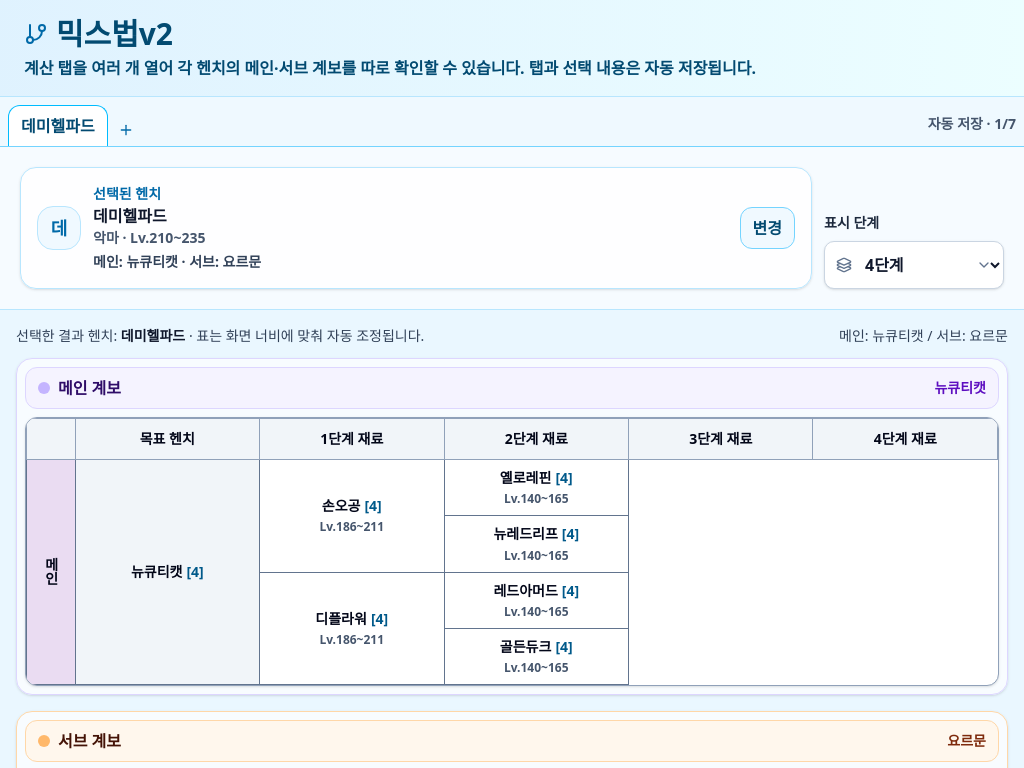
Test: MixTreeTable › opens independent tabs and keeps a different target and depth in each tab
Select "3단계" in the dropdown labelled "표시 단계" at [914, 265], box [824, 241, 1004, 289]
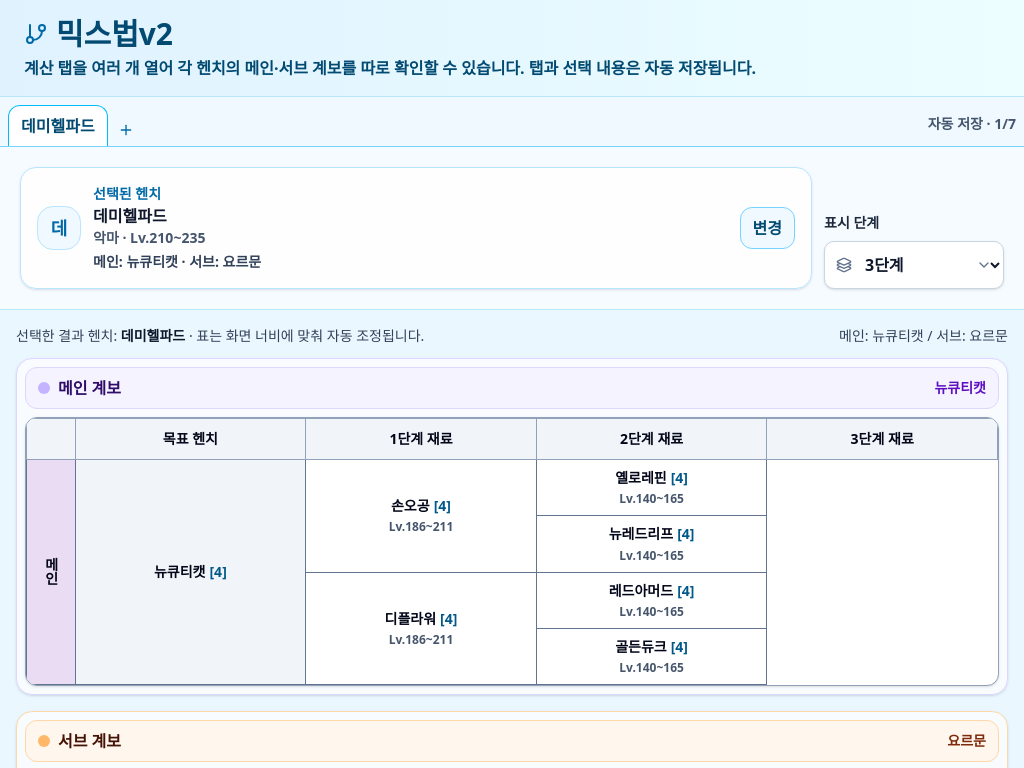
Click the button named "믹스법v2 탭 추가" at [126, 130], box [112, 116, 140, 144]
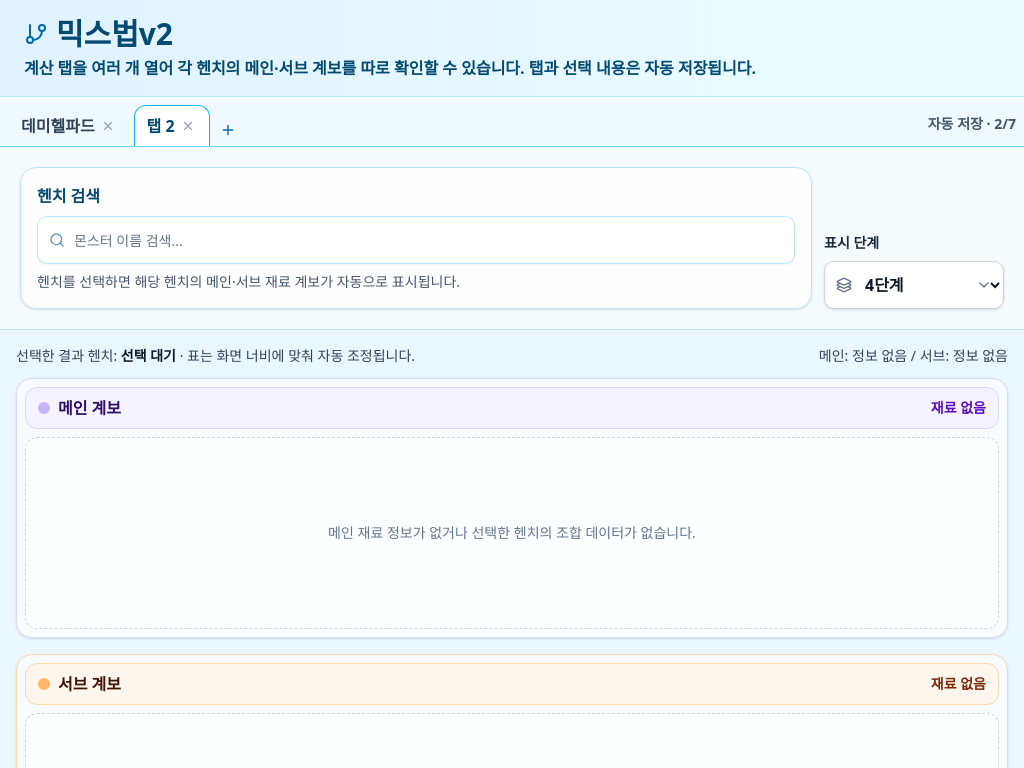
Type "테스트목표" into the field named "헨치 검색" at [416, 240], box [37, 216, 795, 264]
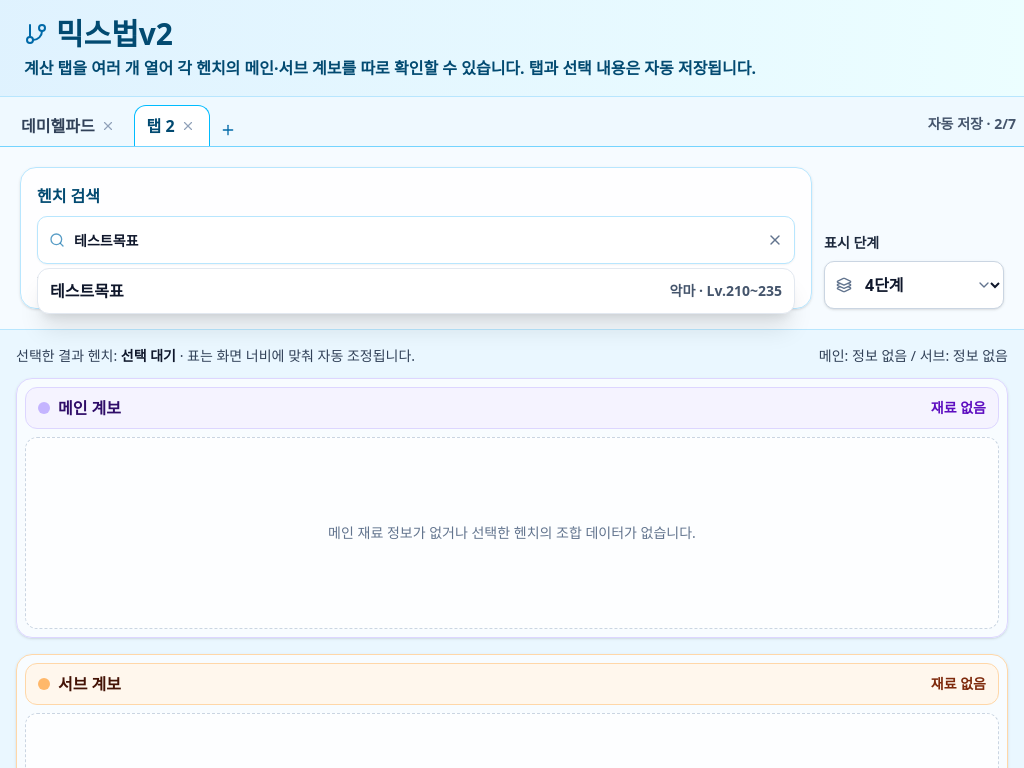
Click the button "테스트목표 악마 · Lv.210~235" at [87, 291], box [38, 269, 794, 313]
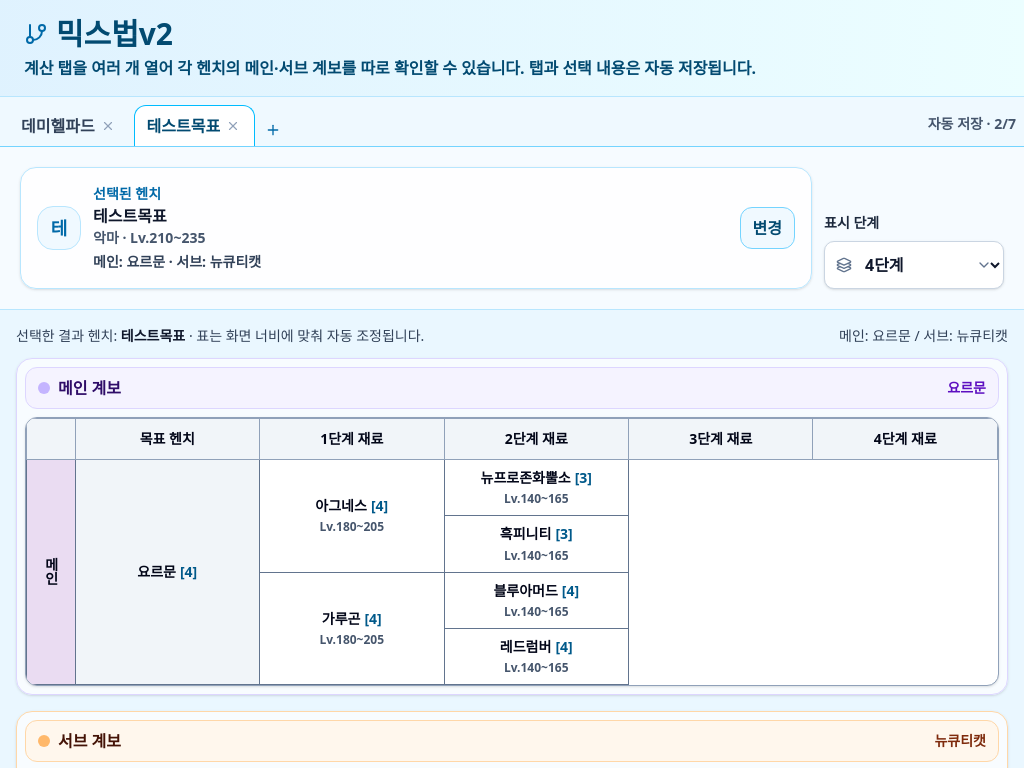
Select "2단계" in the dropdown labelled "표시 단계" at [914, 265], box [824, 241, 1004, 289]
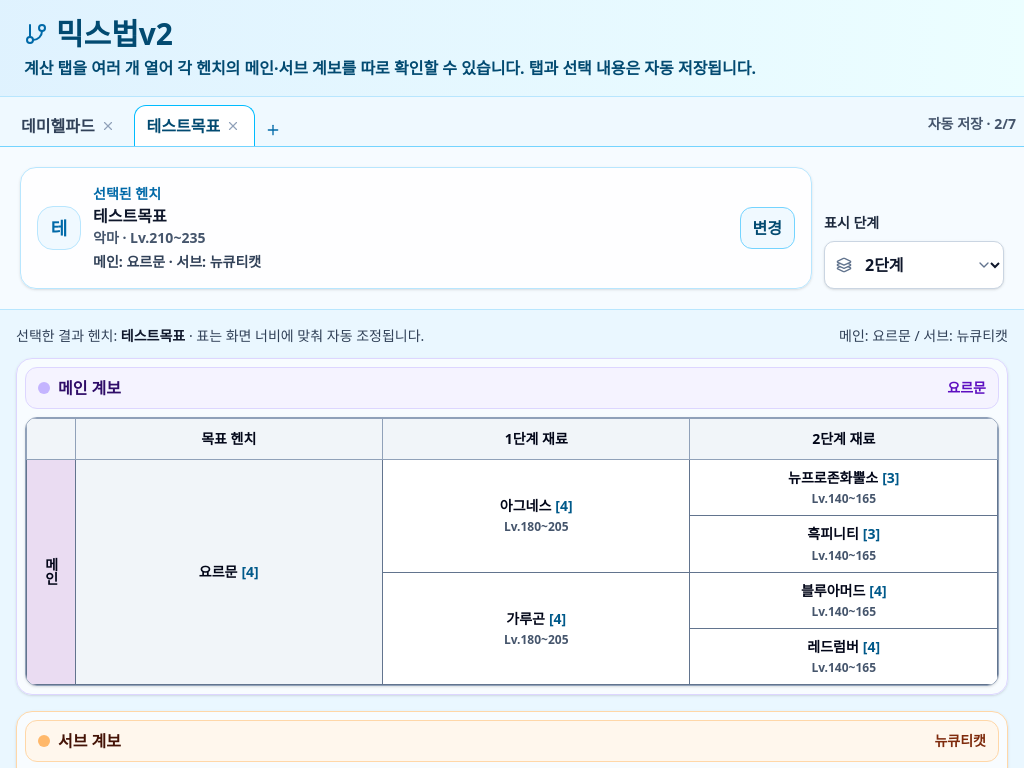
Expected: the element with test id "mix-tree2-main-table" shows "요르문", [199, 562, 237, 581]
Click the tab "데미헬파드" at [58, 126], box [21, 114, 95, 138]
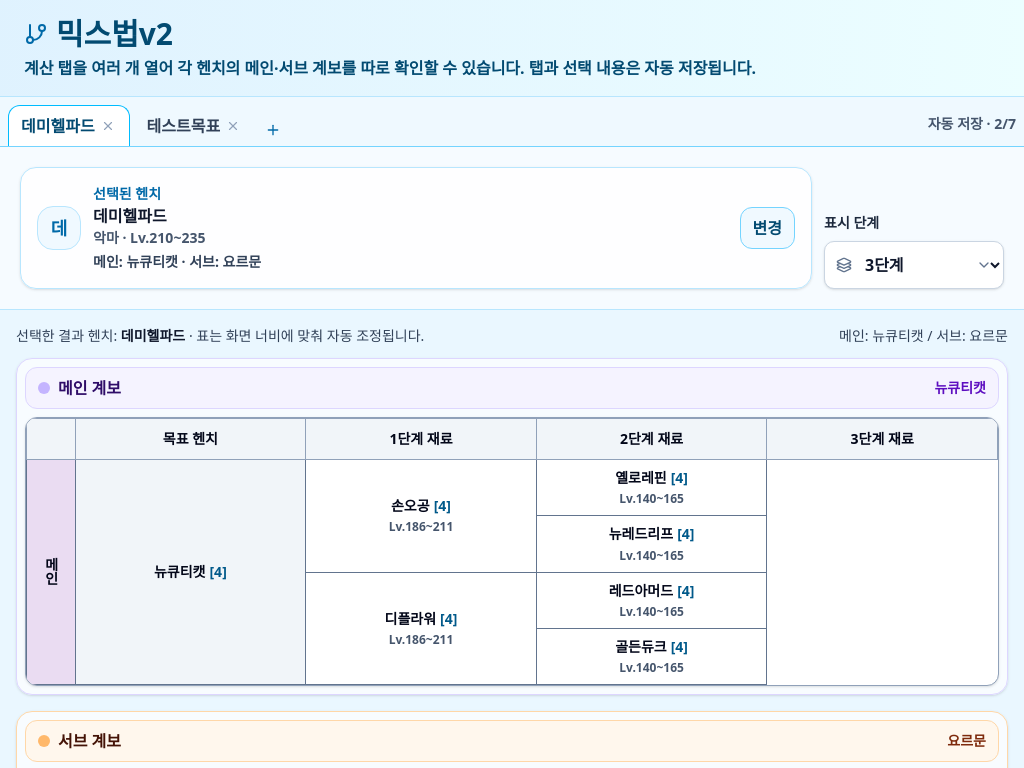
Expected: the element with test id "mix-tree2-main-table" shows "뉴큐티캣", [154, 562, 205, 581]
